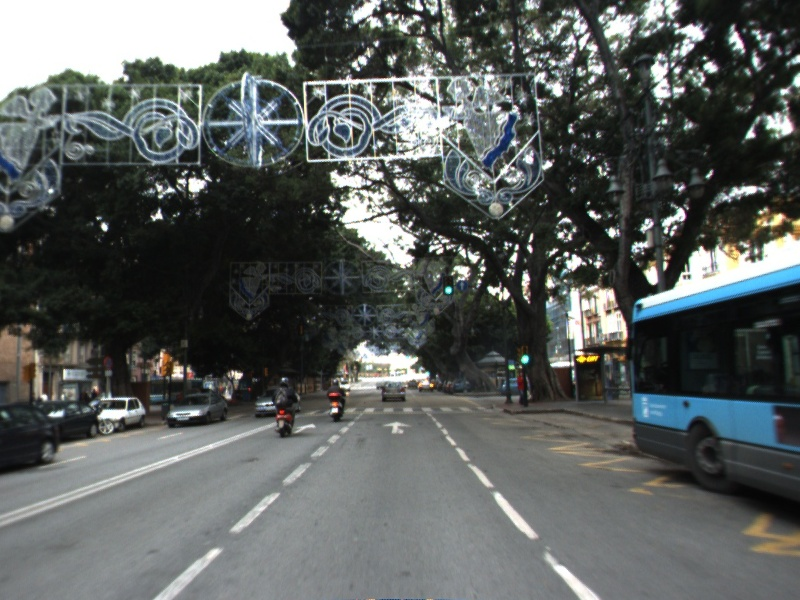STRAIGHT: (381, 419, 415, 437), (291, 421, 319, 435)
